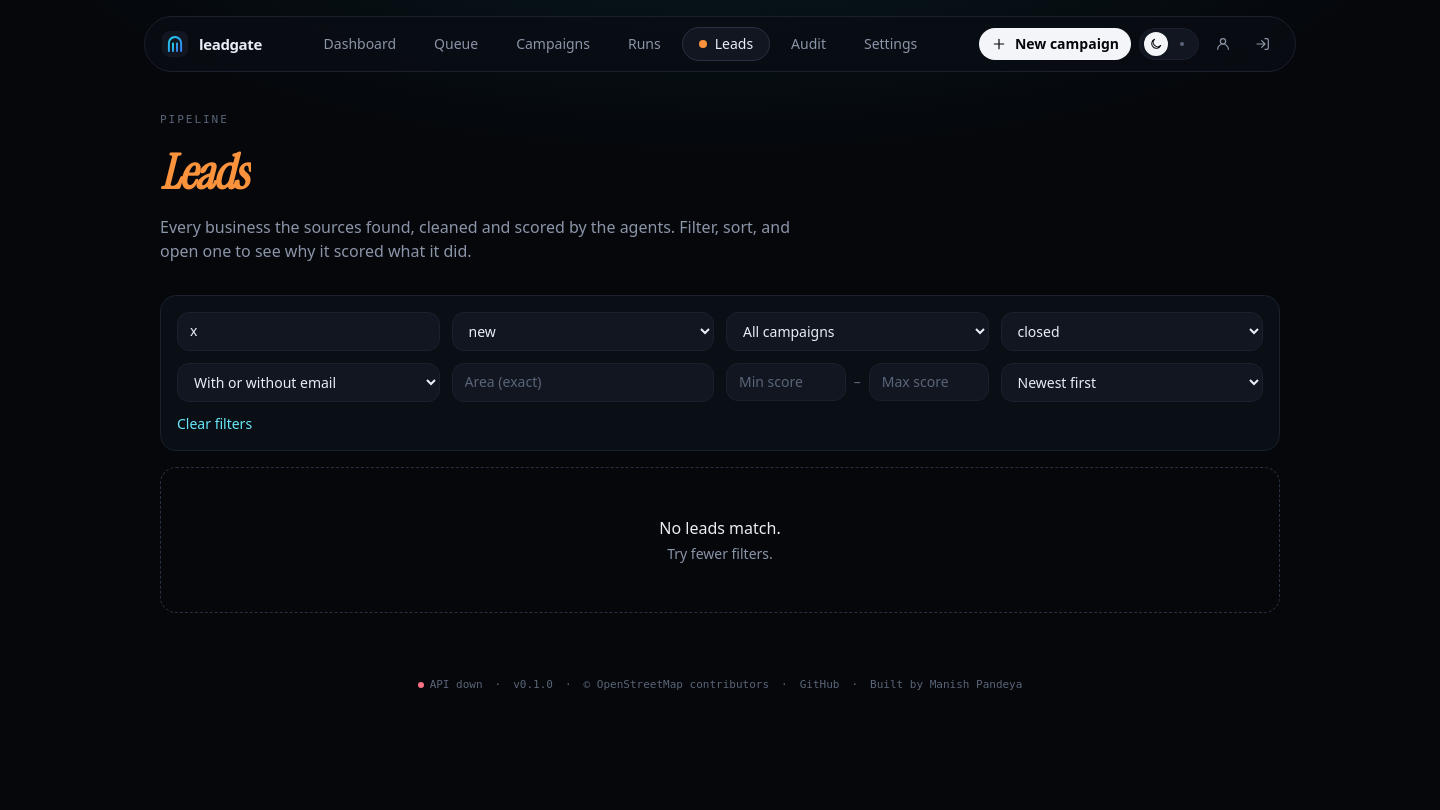
Test case: LeadsPage › clears every filter
This screenshot has width=1440, height=810.
Check: the text "No leads match." is shown, box top-left (659, 516), bottom-right (781, 538)
Click the button "Clear filters": (215,423) top-left (177, 414), bottom-right (440, 434)
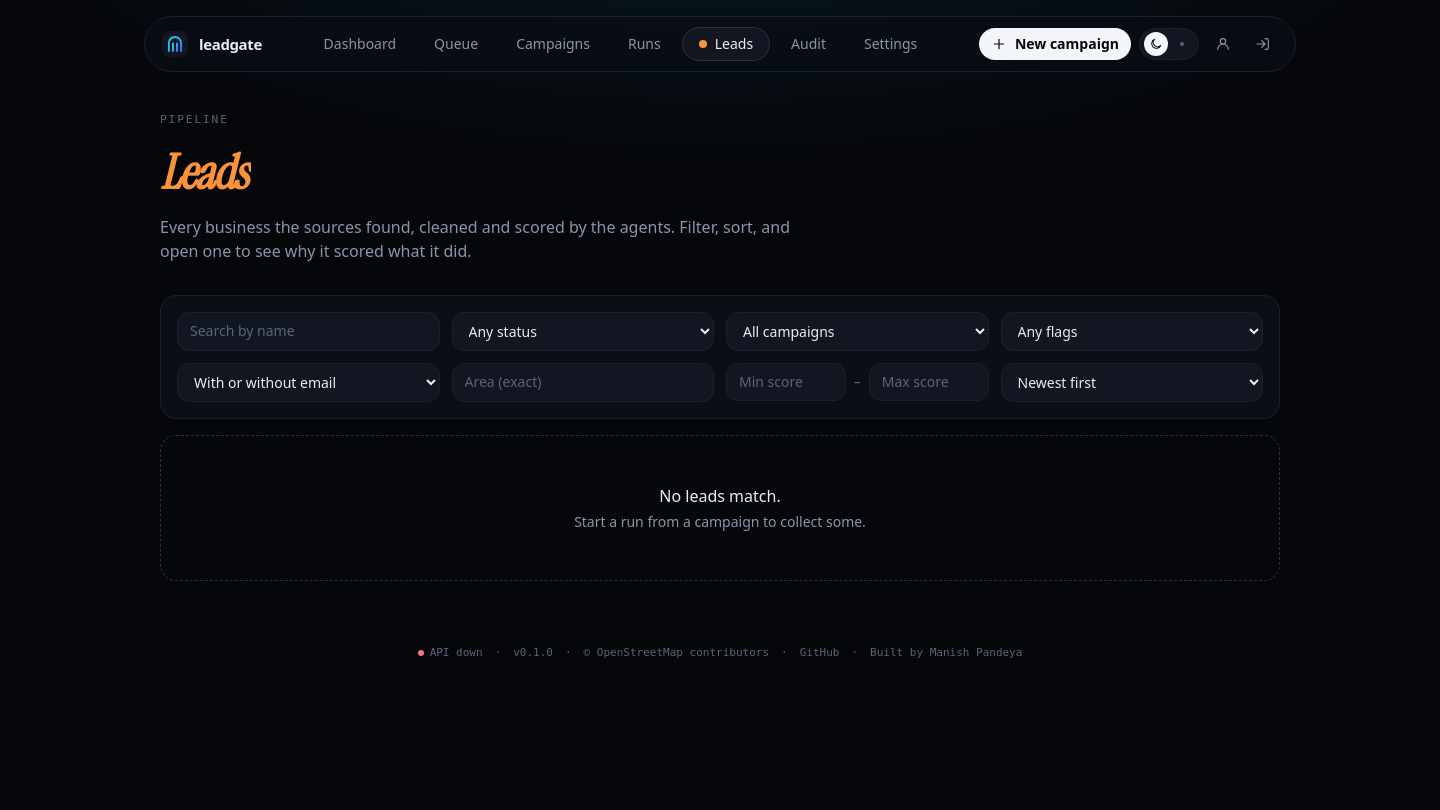
Check: the search field labelled "Search by name" is empty, box top-left (177, 312), bottom-right (440, 350)
Check: the button "Clear filters" is gone
